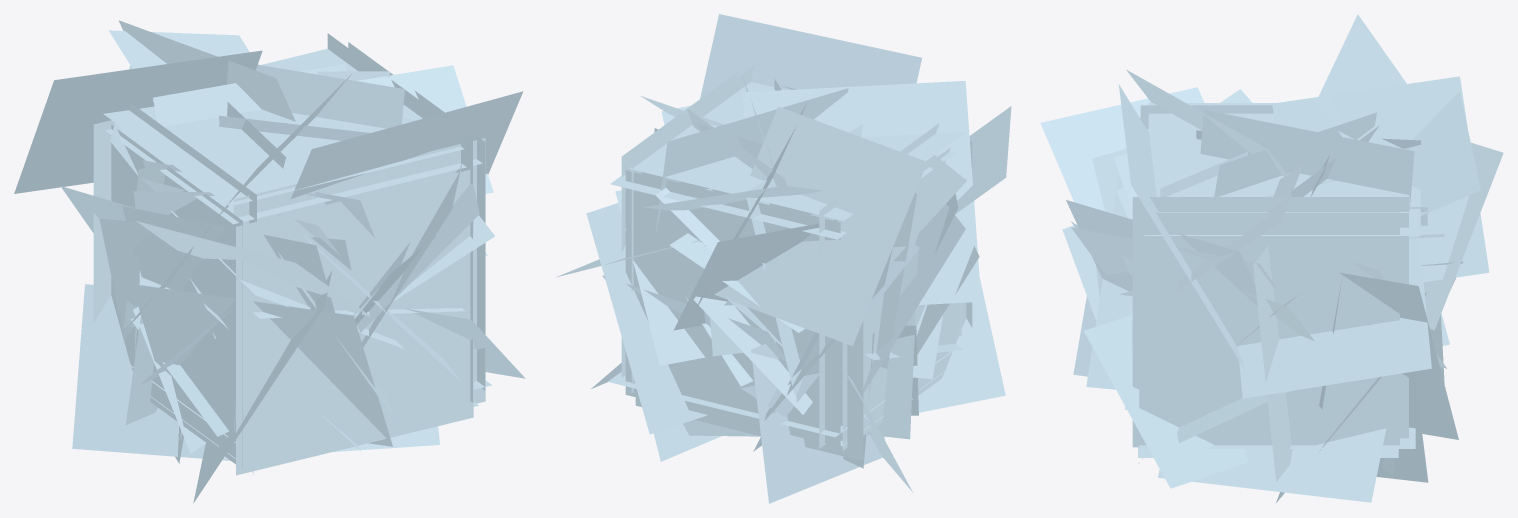
Rendered from fog-cube.glb.
The picture shows the model from 3 angles, left to right: view 1: azimuth 30°, elevation 25°; view 2: azimuth 150°, elevation 25°; view 3: azimuth 270°, elevation 25°; orthographic projection. The views are drawn at different scales.
Parts seen in each view (by area): view 1: FogCube; view 2: FogCube; view 3: FogCube.
Boxes of the visible parts, box(x1,y1,x2,y2) form: FogCube: box(14, 20, 525, 503); FogCube: box(555, 14, 1011, 503); FogCube: box(1040, 14, 1503, 502).
Bounding box in the file's own units: 1.32 × 1.25 × 1.48.
Materials: 1 (1 with a texture image).
